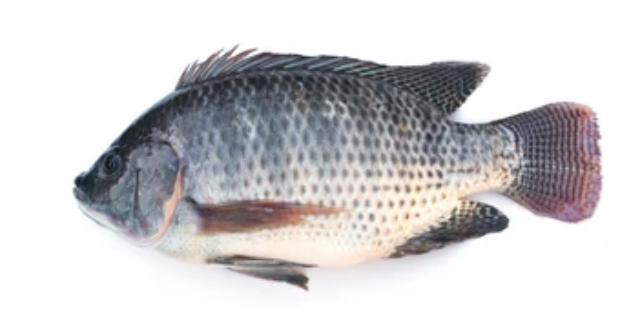Mulut: (54, 160, 106, 228)
Sirip Anal: (374, 194, 518, 266)
Sirip Dada: (173, 180, 359, 248)
Sirip Ekor: (488, 82, 614, 232)
Sirip Perut: (194, 248, 328, 306)
Sirip Punggung: (172, 35, 500, 125)
